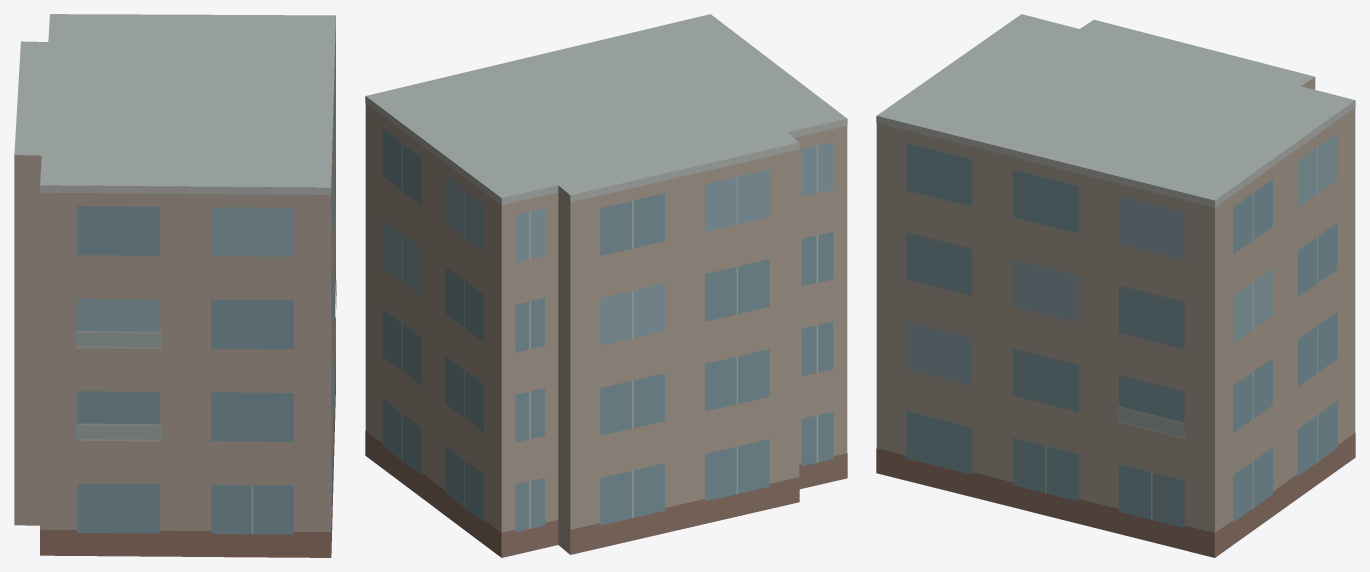
Rendered from survey-upis-32721878.glb.
3 views of the same model, side by side, from view 1: azimuth 30°, elevation 25°; view 2: azimuth 150°, elevation 25°; view 3: azimuth 270°, elevation 25° (orthographic). The views are drawn at different scales.
Parts seen in each view (by area): view 1: survey-upis-32721878.tmp; view 2: survey-upis-32721878.tmp; view 3: survey-upis-32721878.tmp.
Boxes of the visible parts, left/top/right/bottom form: survey-upis-32721878.tmp: left=14, top=14, right=336, bottom=557; survey-upis-32721878.tmp: left=365, top=14, right=847, bottom=557; survey-upis-32721878.tmp: left=876, top=14, right=1355, bottom=557.
Size of the model in its own units: 13.66 by 12.2 by 14.83.
